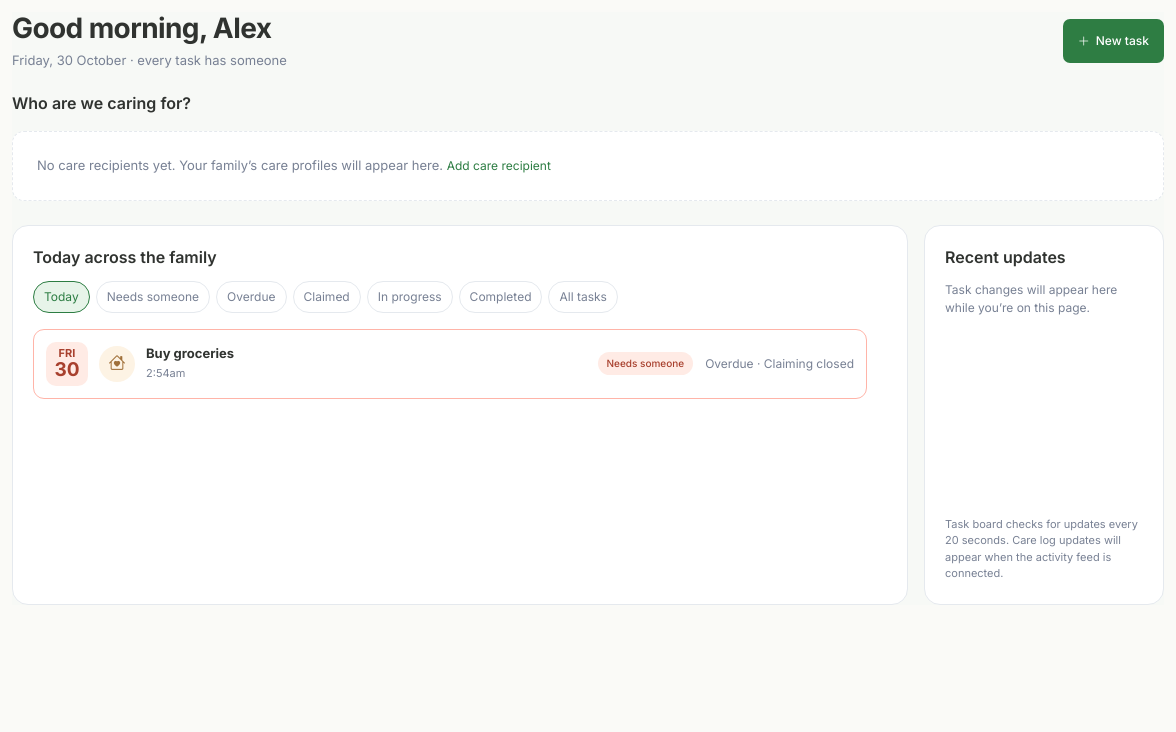
Family home task board and navigation › keeps all task filters and claiming inside the existing home dashboard
Expected: the element that starts with "Today across the family" is shown, 33,247 -> 217,267
Expected: the element that starts with "Today across the family" shows "Buy groceries", 146,345 -> 234,361
What coordinates should you click on to do the following:
click the button "Needs someone"
I would click on:
 (153, 297)
Its box is 96,281 -> 210,313.
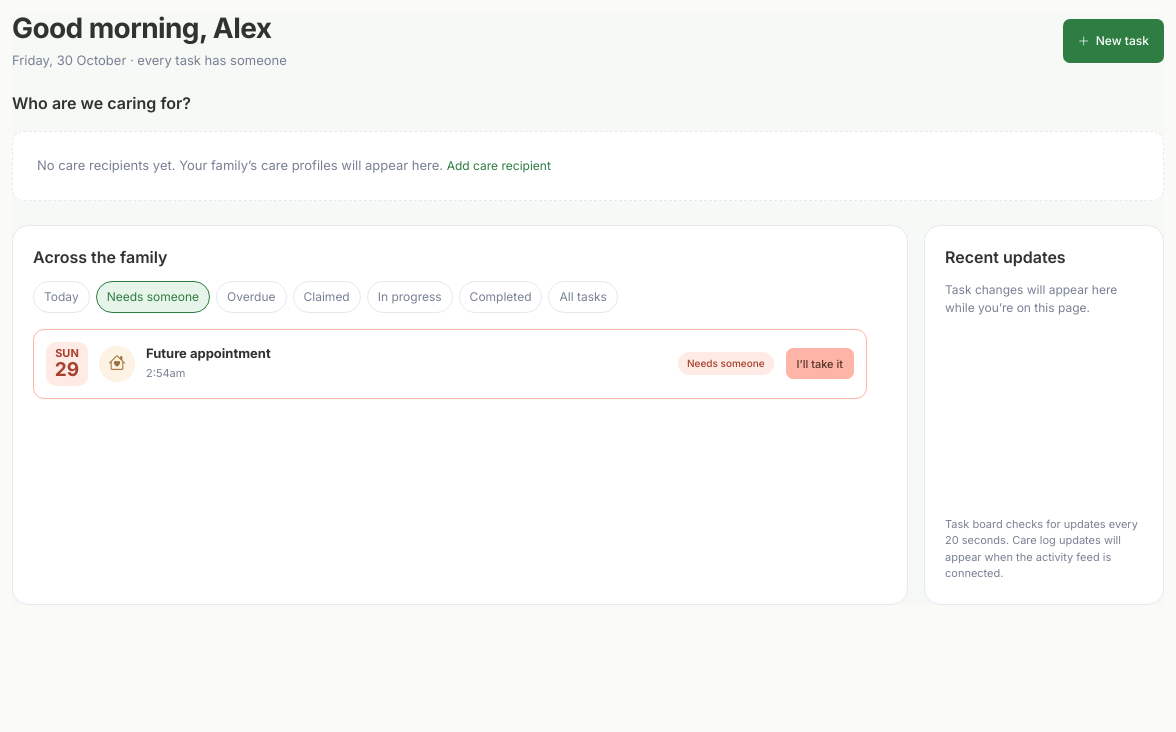
Expected: the text "Completed walk" is not shown
Expected: the element that starts with "Across the family" shows "Future appointment", 146,345 -> 271,361
What coordinates should you click on to do the following:
click the button "I’ll take it"
I would click on:
 (820, 364)
Its box is 786,348 -> 854,380.
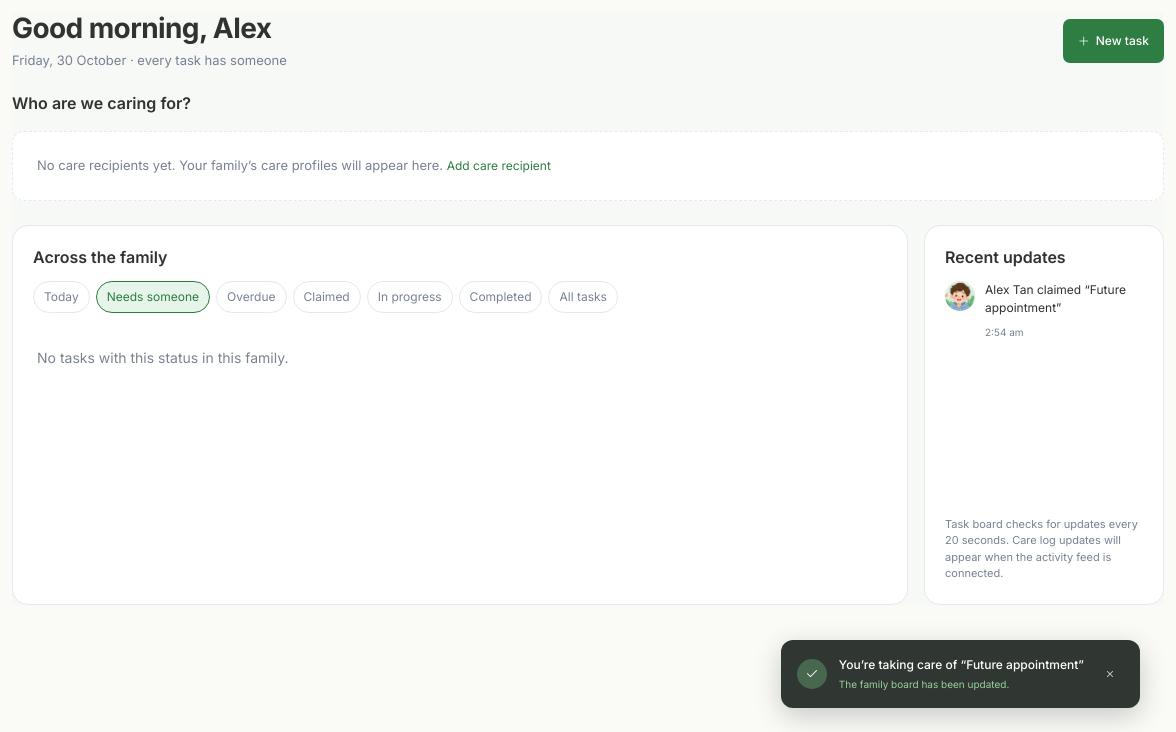
Expected: the text "Future appointment" is gone
What coordinates should you click on to do the following:
click the button "Claimed"
I would click on:
 (327, 297)
Its box is 292,281 -> 361,313.
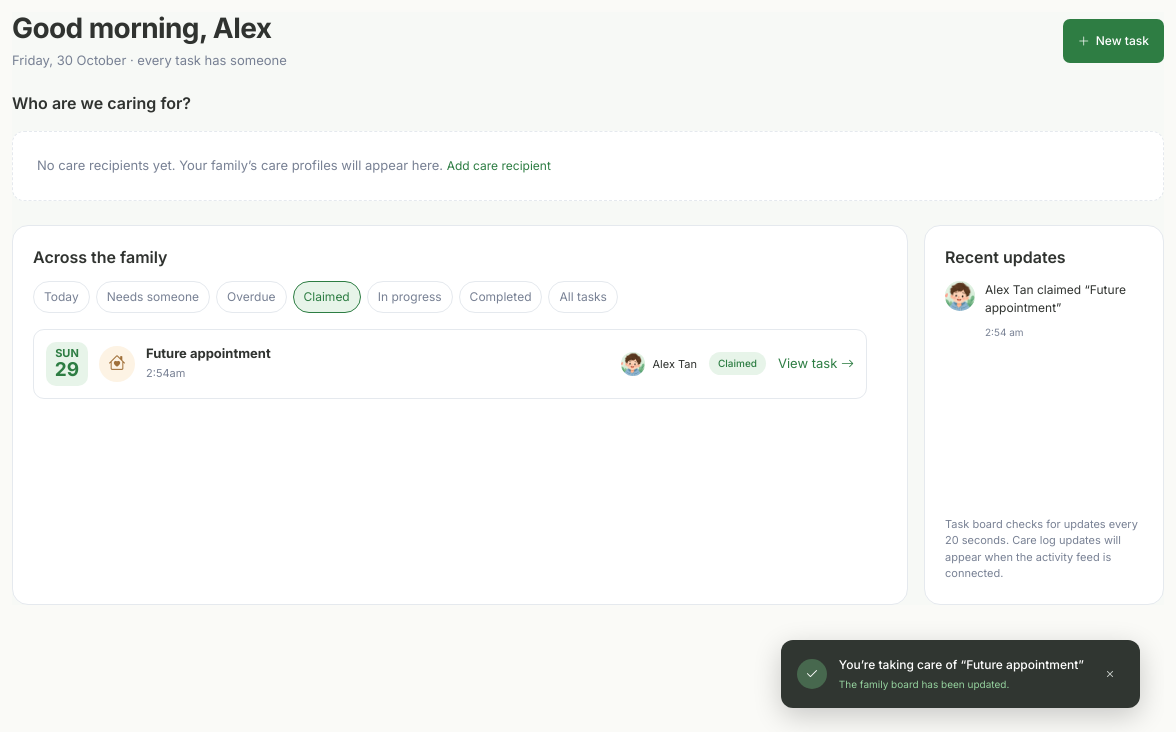
Expected: the element that starts with "Across the family" shows "Future appointment", 146,345 -> 271,361
Expected: the element that starts with "Across the family" shows "Alex Tan", 652,357 -> 697,371
What coordinates should you click on to do the following:
click the button "Completed"
I would click on:
 (501, 297)
Its box is 459,281 -> 542,313.
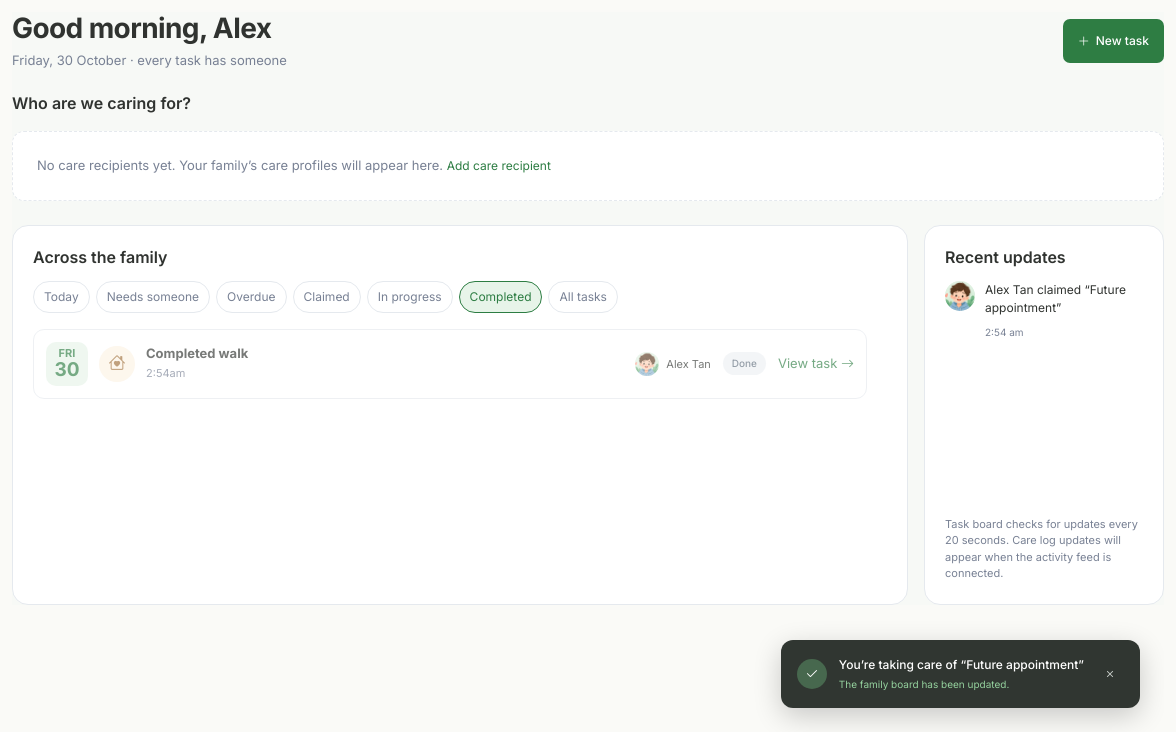
Expected: the text "Recent updates" is shown, 945,248 -> 1066,267
Expected: the element that starts with "Across the family" shows "Completed walk", 146,345 -> 248,361
